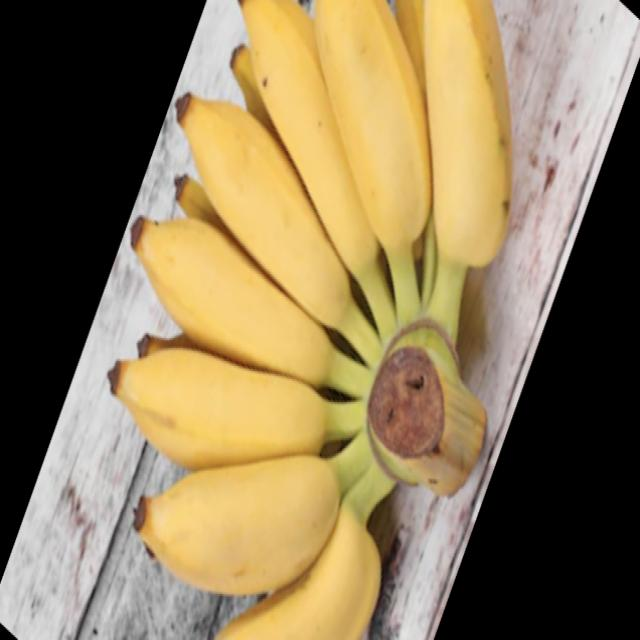god quality banana: (110, 0, 511, 638)
